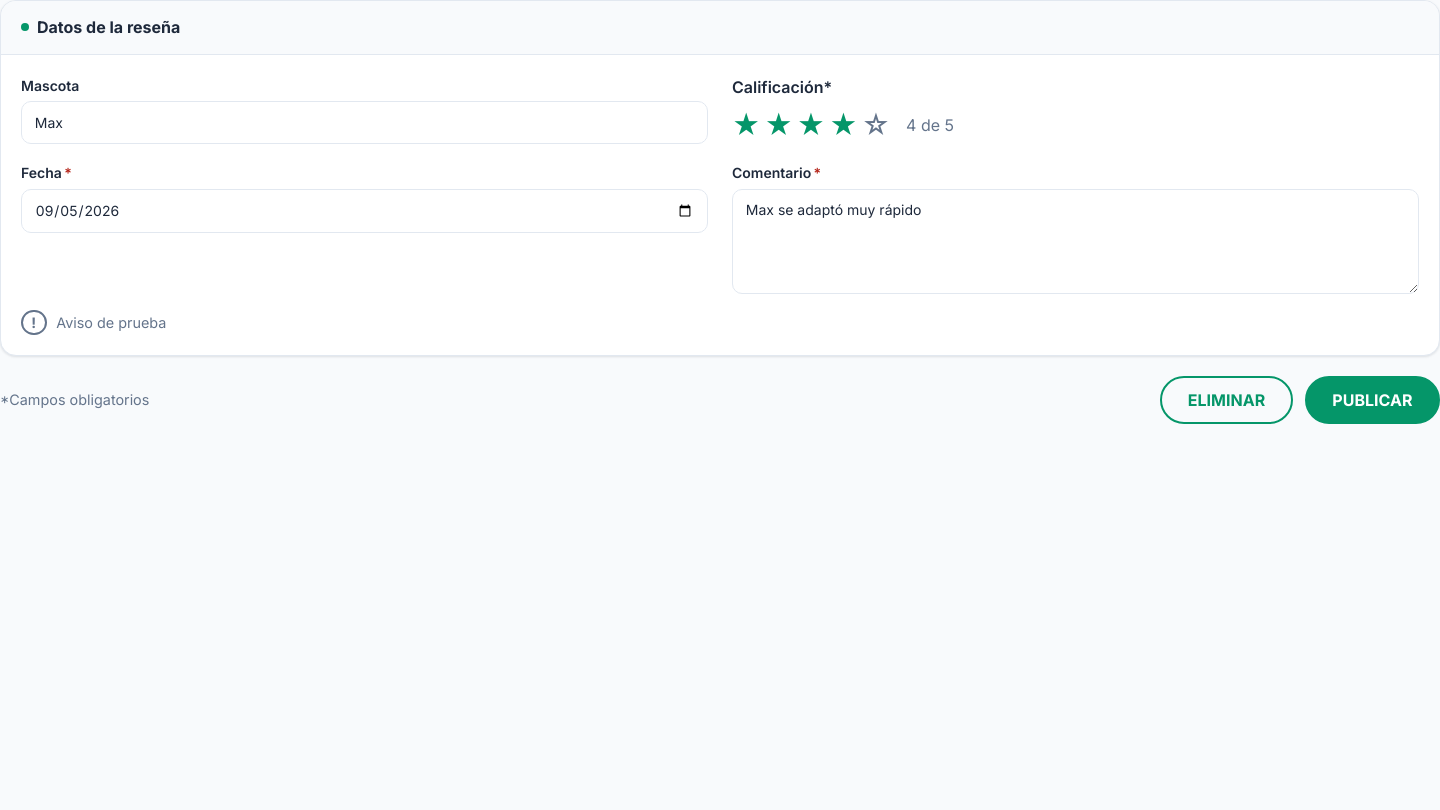
Scenario: ReviewForm › deleting › explains why the review could not be deleted
Click the button "Eliminar".
click(1227, 400)  # box x1=1160 y1=376 x2=1293 y2=424
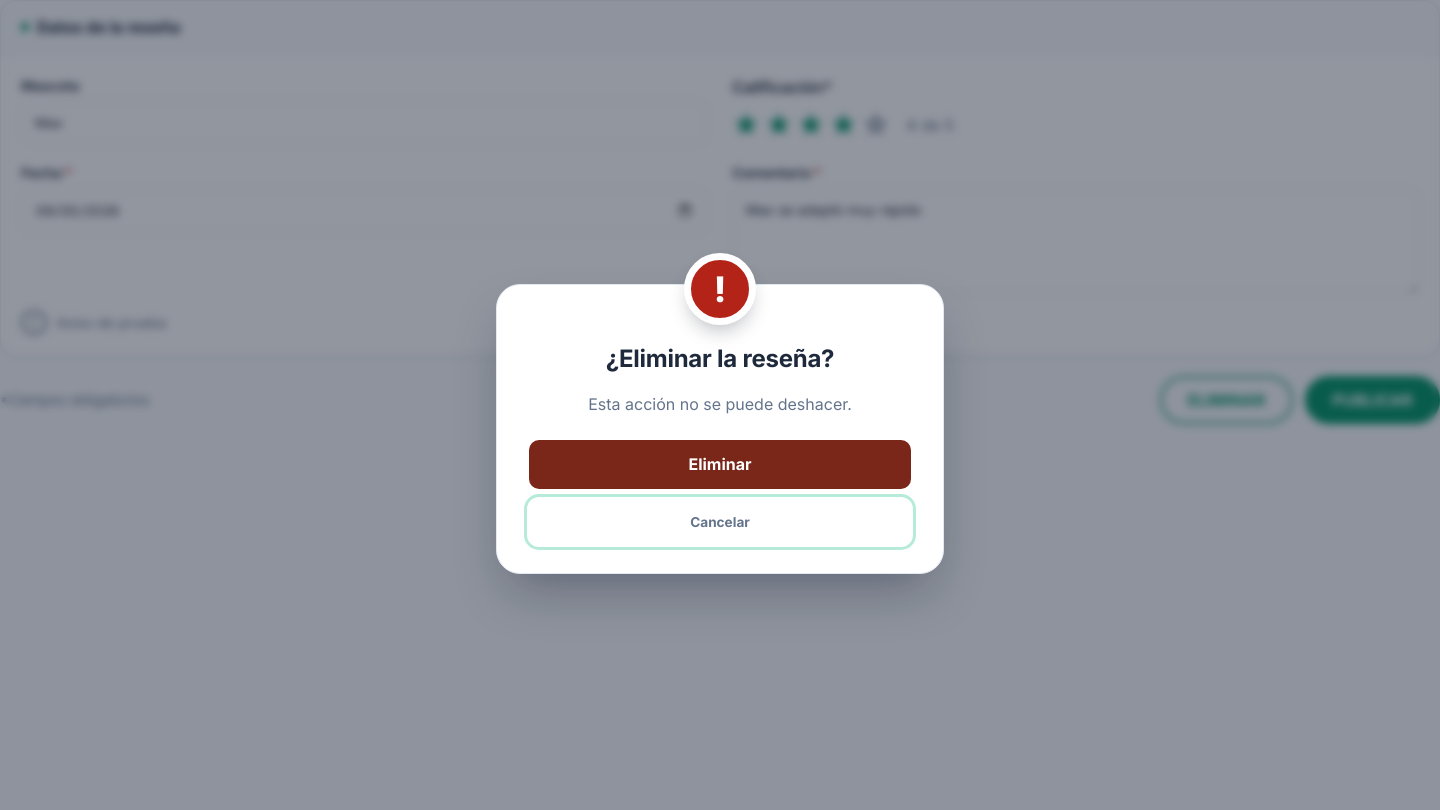
Click the button "Eliminar".
click(720, 464)  # box x1=529 y1=440 x2=911 y2=489
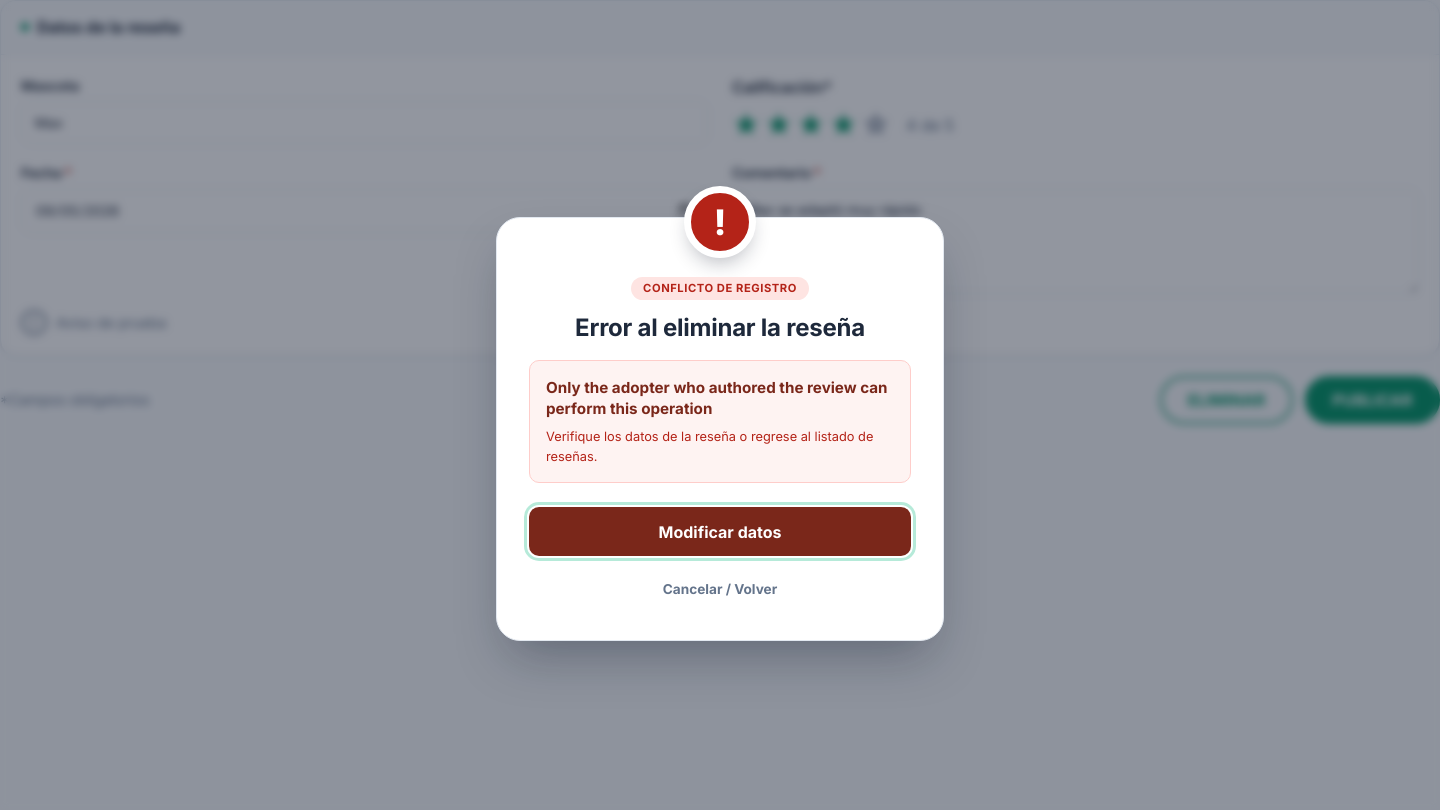
Check: the dialog shows "Error al eliminar la reseña", box x1=575 y1=312 x2=865 y2=342
Check: the dialog shows "Only the adopter", box x1=546 y1=378 x2=888 y2=418
